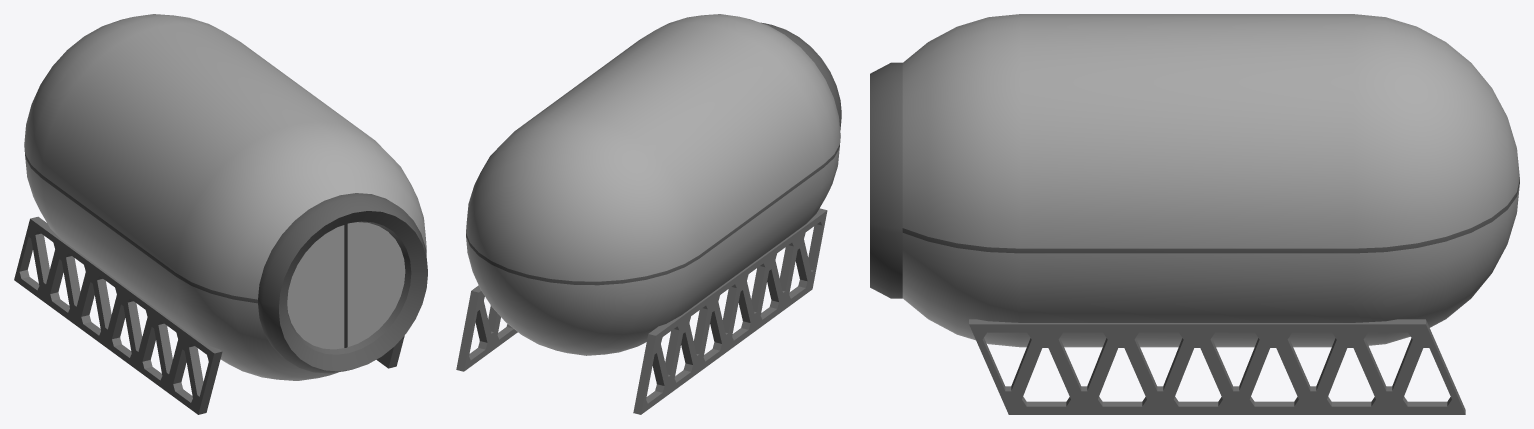
The model's file is House Long.glb.
3 renders of one model, left to right at view 1: azimuth 30°, elevation 25°; view 2: azimuth 150°, elevation 25°; view 3: azimuth 270°, elevation 25°, orthographic. The views are drawn at different scales.
Visible parts, largest first — view 1: House_Long; view 2: House_Long; view 3: House_Long.
Part boxes in pixels (<box>): House_Long: <box>14,14,427,414</box>; House_Long: <box>456,14,841,414</box>; House_Long: <box>870,14,1519,414</box>.
Size of the model in its own units: 3.99 by 4.31 by 7.79.
1 material, 1 textured.
